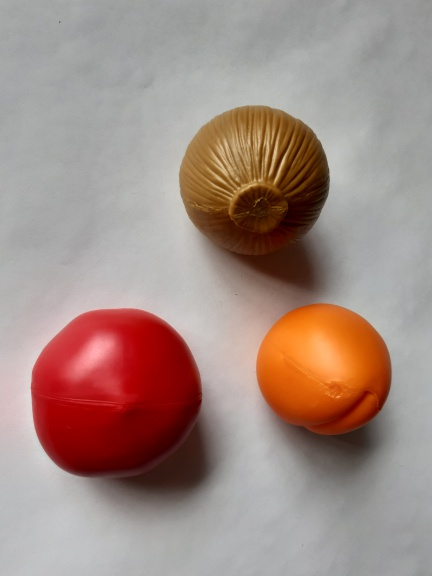apricot: (246, 295, 397, 440)
onion: (170, 97, 341, 266)
tomato: (19, 290, 208, 487)
